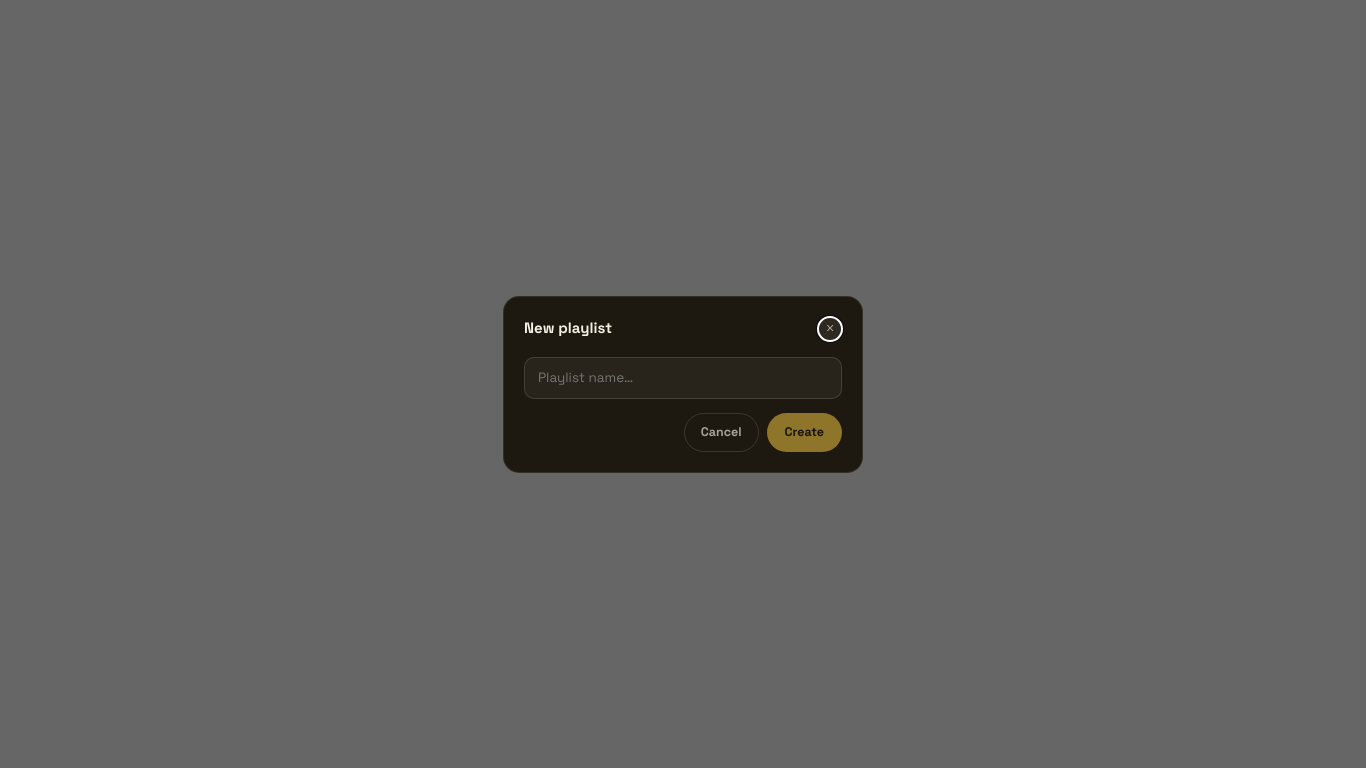
Scenario: CreatePlaylistModal › disables Create until a title is entered
Check: the button "Create" is disabled, box [766,413,842,452]
Type "My Mix" into the field with placeholder "Playlist name…" at (683, 378), box [524,356,842,399]
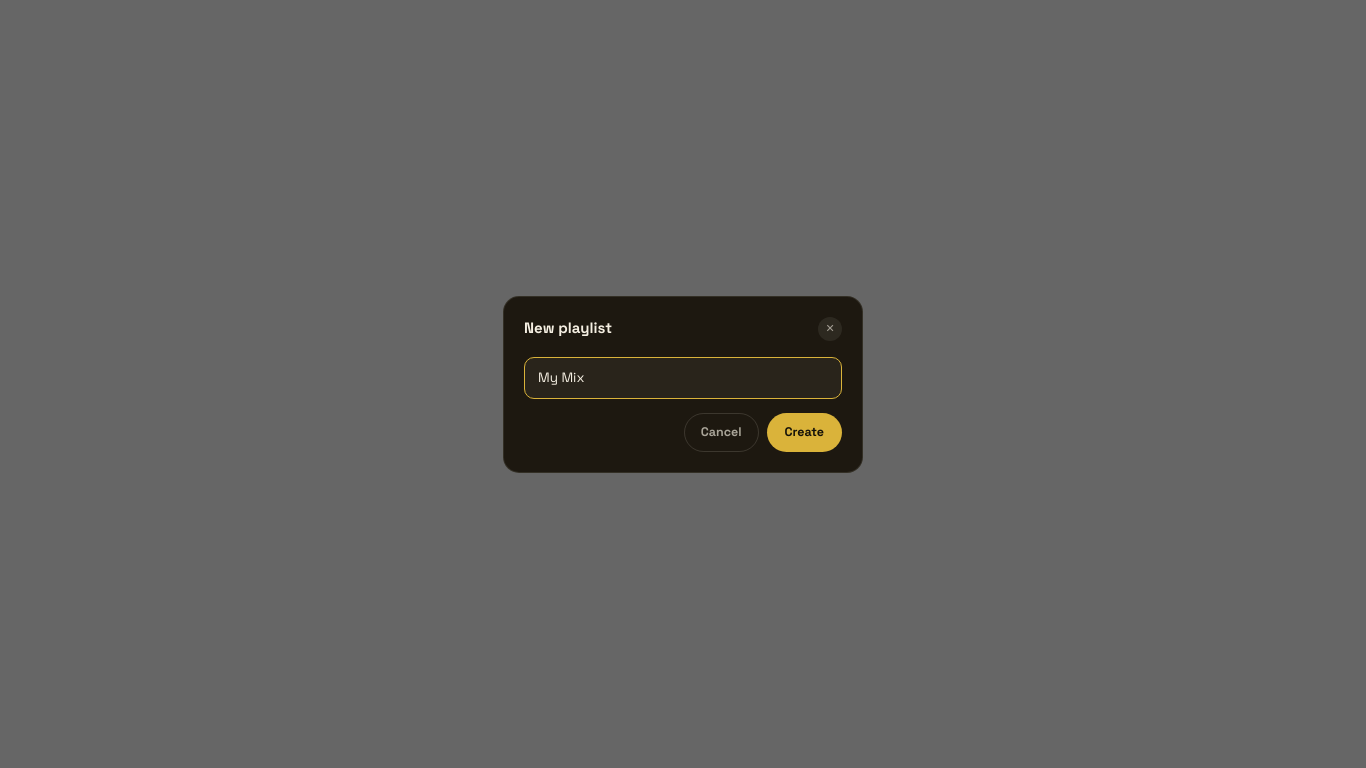
Check: the button "Create" is enabled, box [766,413,842,452]
